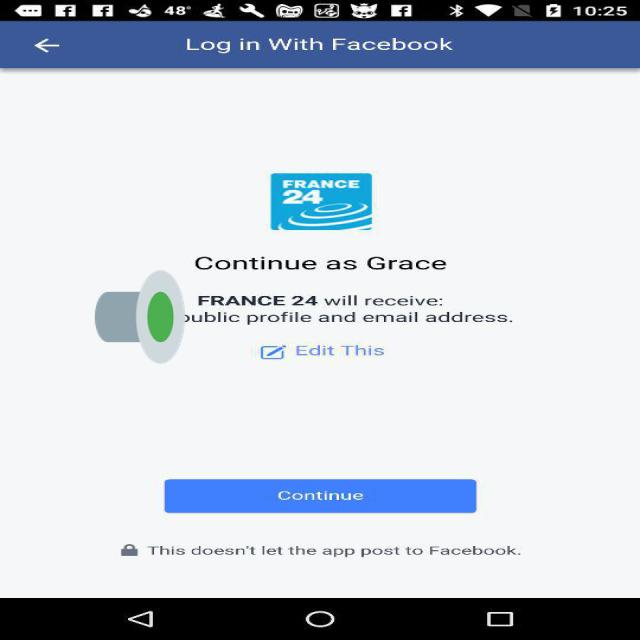social proof: (95, 231, 185, 403)
